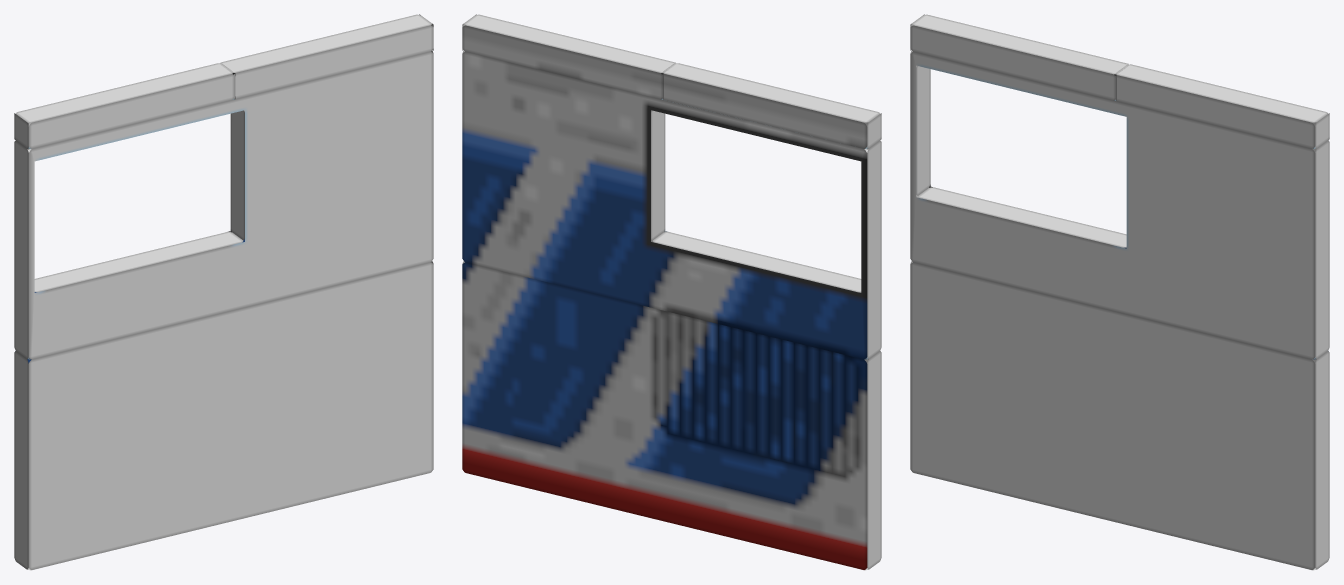
The model's file is df4d_left_board_a.obj.
The picture shows the model from 3 angles, left to right: view 1: azimuth 30°, elevation 25°; view 2: azimuth 150°, elevation 25°; view 3: azimuth 330°, elevation 25°; orthographic projection.
Visible parts, largest first — view 1: df4d_left_broad_a; view 2: df4d_left_broad_a; view 3: df4d_left_broad_a.
Part boxes in pixels (<box>): df4d_left_broad_a: <box>14,14,433,570</box>; df4d_left_broad_a: <box>462,14,881,570</box>; df4d_left_broad_a: <box>910,14,1329,570</box>.
Bounding box in the file's own units: 2.01 × 2.12 × 0.1258.
